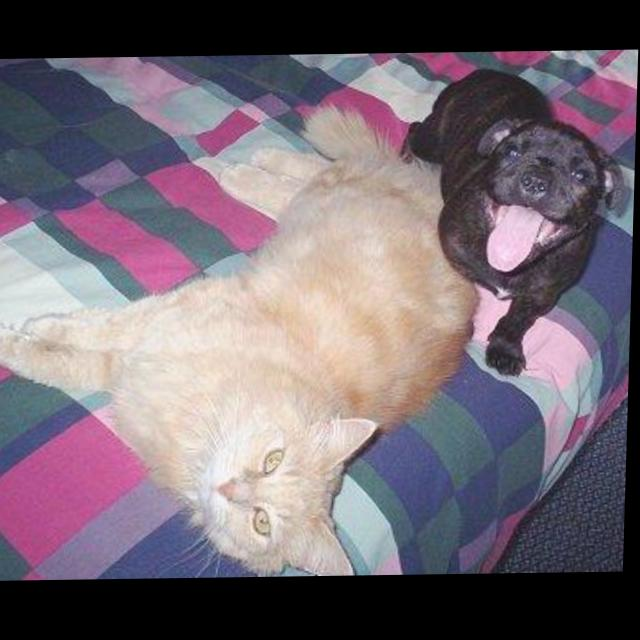am_pit_bull_terrier: (396, 67, 627, 381)
